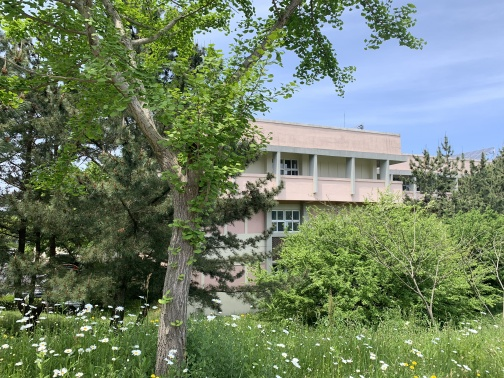College Of Education: (188, 106, 498, 304)
